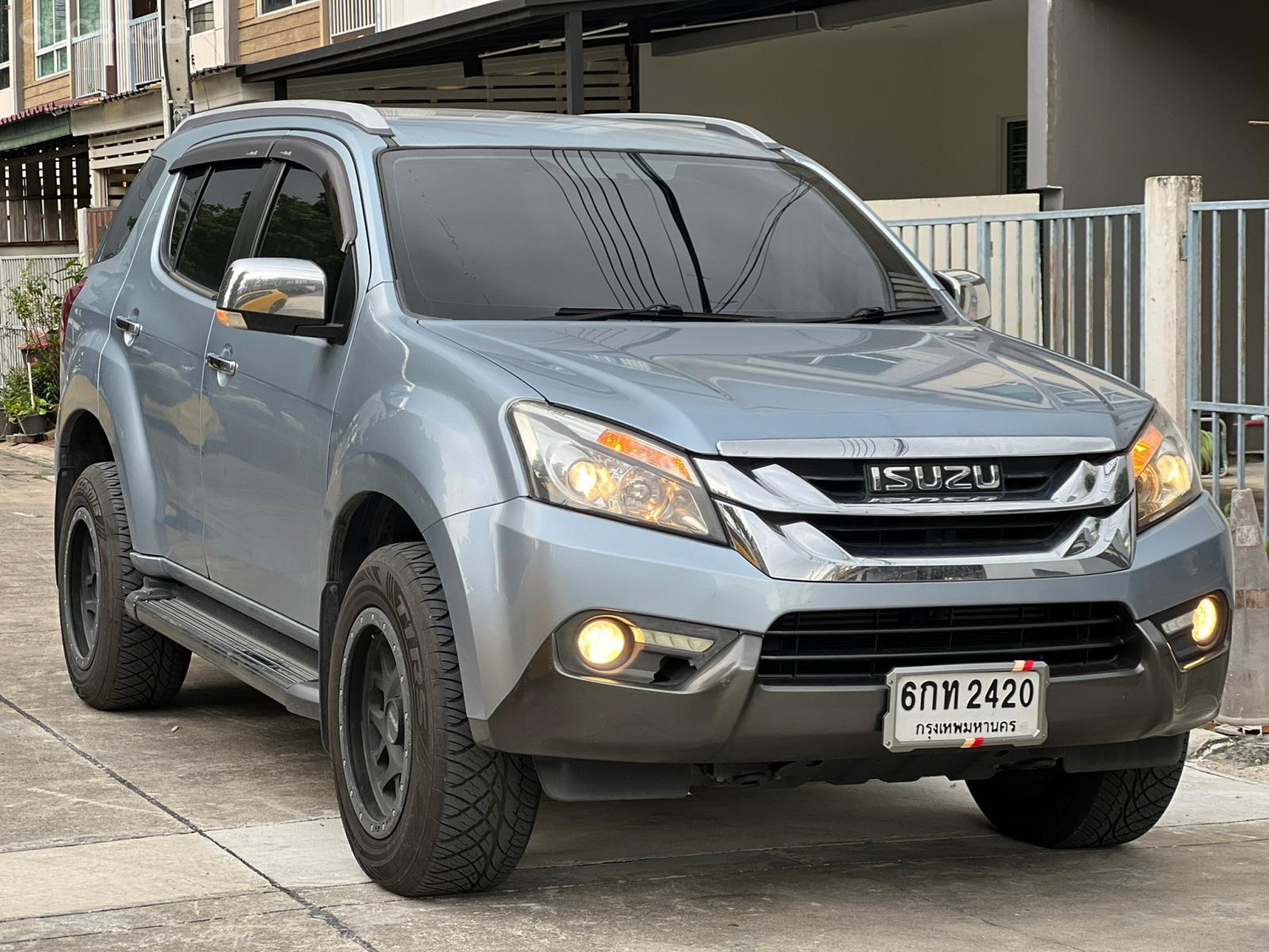license-plate: (874, 657, 1058, 761)
